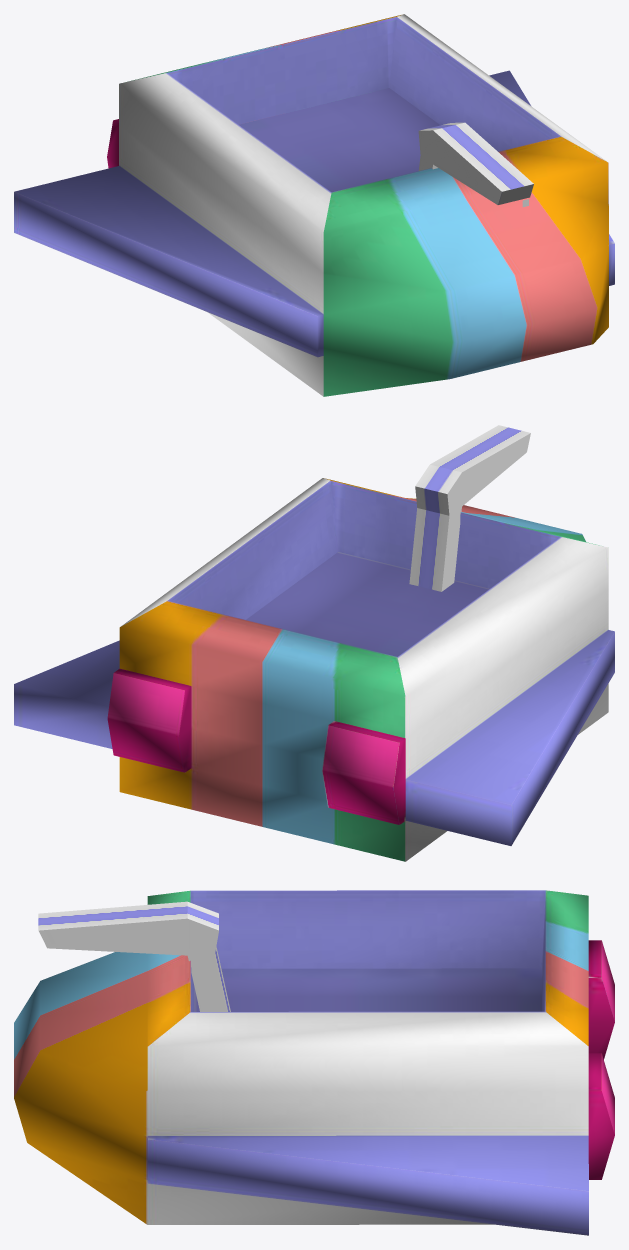
File: spaceship.glb
The picture shows the model from 3 angles, top to bottom: view 1: azimuth 30°, elevation 25°; view 2: azimuth 150°, elevation 25°; view 3: azimuth 270°, elevation 25°; orthographic projection. The views are drawn at different scales.
Parts seen in each view (by area): view 1: spaceship1, g1; view 2: spaceship1, g1; view 3: spaceship1, g1.
Boxes of the visible parts, <box> form: spaceship1: <box>14,14,614,396</box>; g1: <box>418,122,533,204</box>; spaceship1: <box>14,478,614,861</box>; g1: <box>409,425,530,591</box>; spaceship1: <box>14,890,614,1235</box>; g1: <box>38,901,230,1011</box>.
Bounding box in the file's own units: 0.471 × 0.2216 × 0.4563.
1 material, 1 textured.
